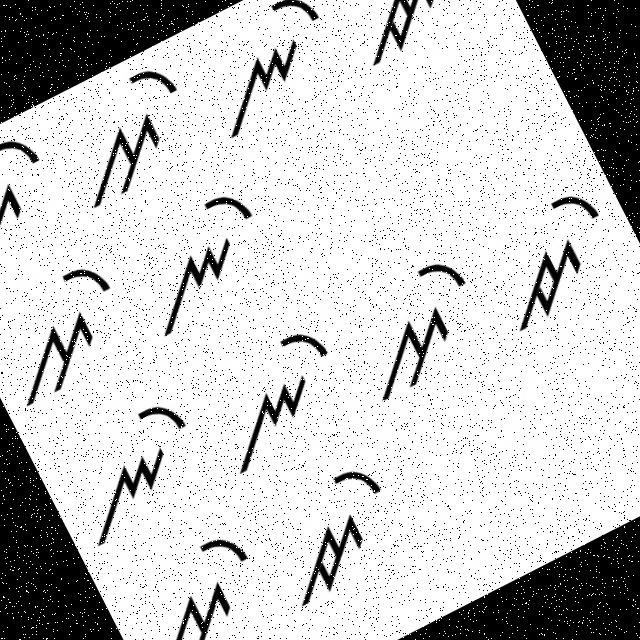jay: (461, 167, 639, 348), (255, 452, 426, 618), (314, 0, 492, 79), (0, 121, 75, 281)
nyay: (110, 169, 292, 346), (188, 315, 366, 485), (48, 386, 222, 552), (181, 0, 360, 150)
say: (330, 242, 504, 412), (44, 51, 217, 215), (0, 246, 147, 411), (116, 522, 287, 639)
